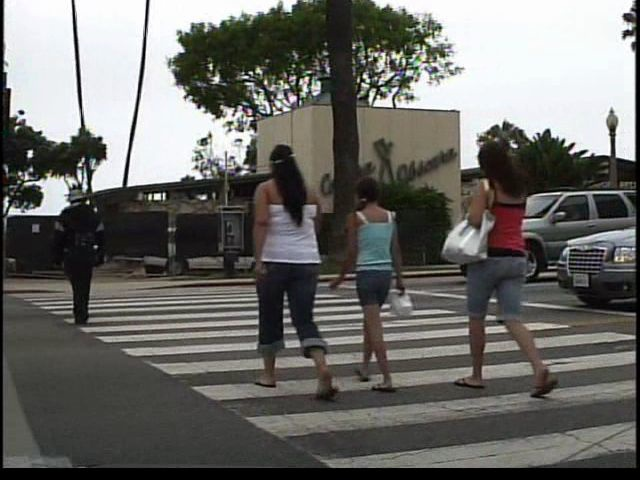person: (244, 133, 346, 405), (455, 135, 553, 403), (337, 171, 411, 396), (42, 181, 108, 332)
